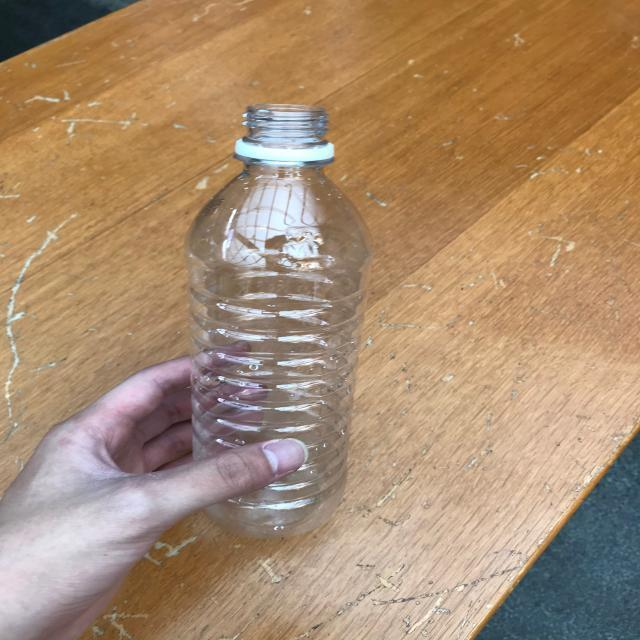plastic_bottle: (185, 104, 374, 537)
